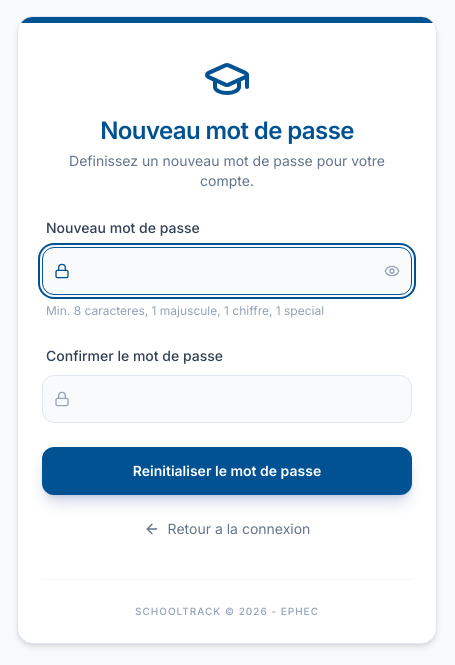
Test: ResetPasswordScreen — with token › shows success state after successful reset
Type "NewPass1!" into the password field labelled "Nouveau mot de passe" at (227,271), box 42,247 -> 412,295
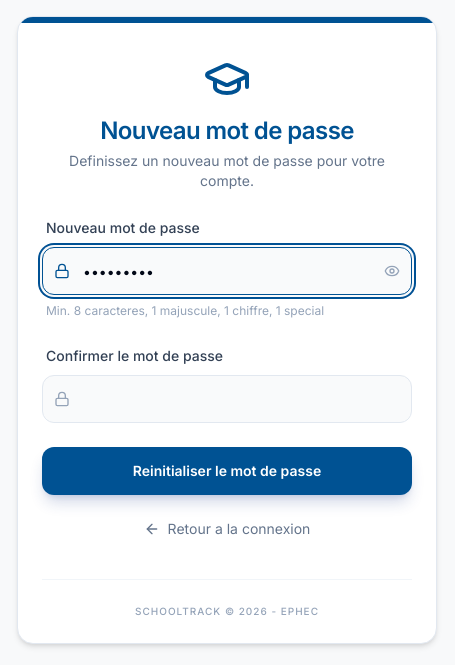
Type "NewPass1!" into the password field labelled "Confirmer le mot de passe" at (227,399), box 42,375 -> 412,423
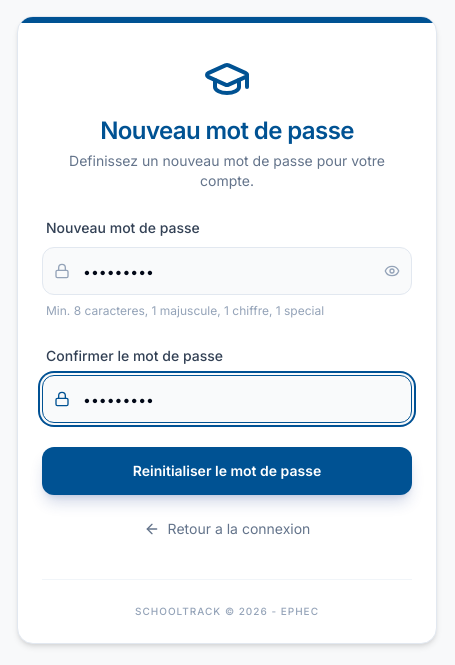
Click the button "Reinitialiser le mot de passe" at (227,471), box 42,447 -> 412,495
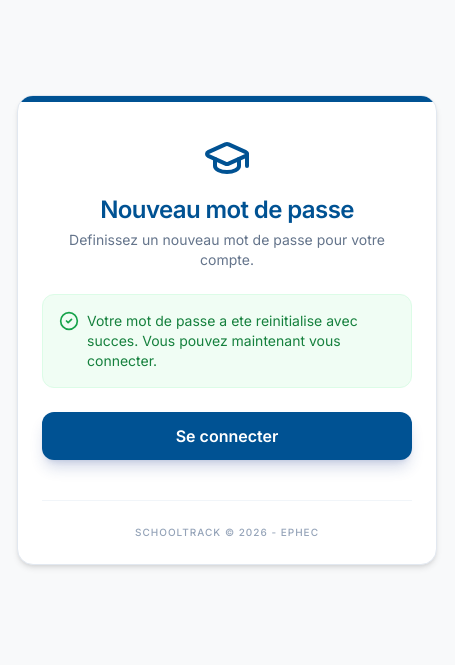
Now the text "reinitialise avec succes" is shown, box 87,312 -> 358,369
Now the link "Se connecter" is shown, box 42,412 -> 412,460
